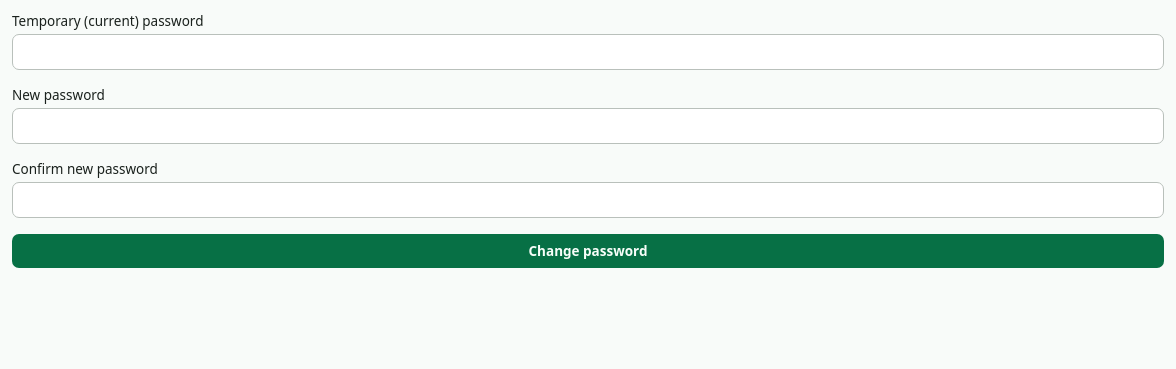
it: ChangePasswordForm › shows the resolved API error when the current password is wrong
The image size is (1176, 369).
In the password field labelled "Temporary (current) password": (588, 52) [12, 34, 1164, 70], type "wrong-pass"
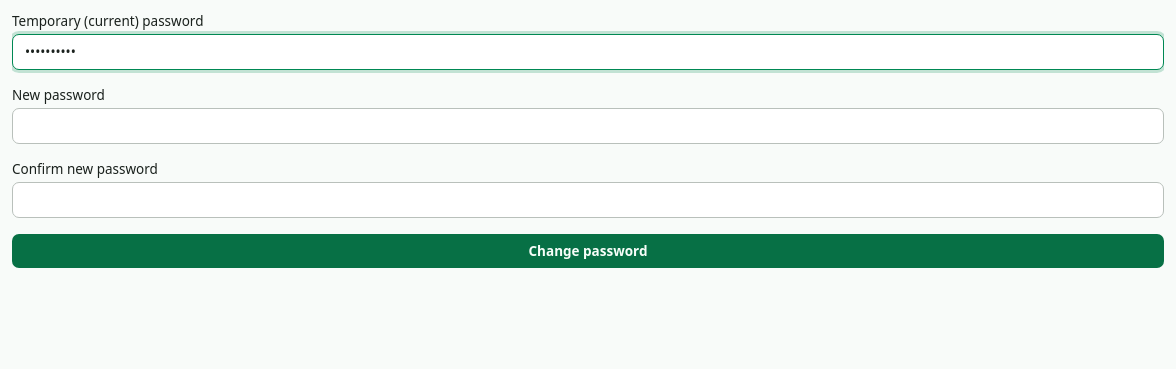
In the password field labelled "New password": (588, 126) [12, 108, 1164, 144], type "newpass123"
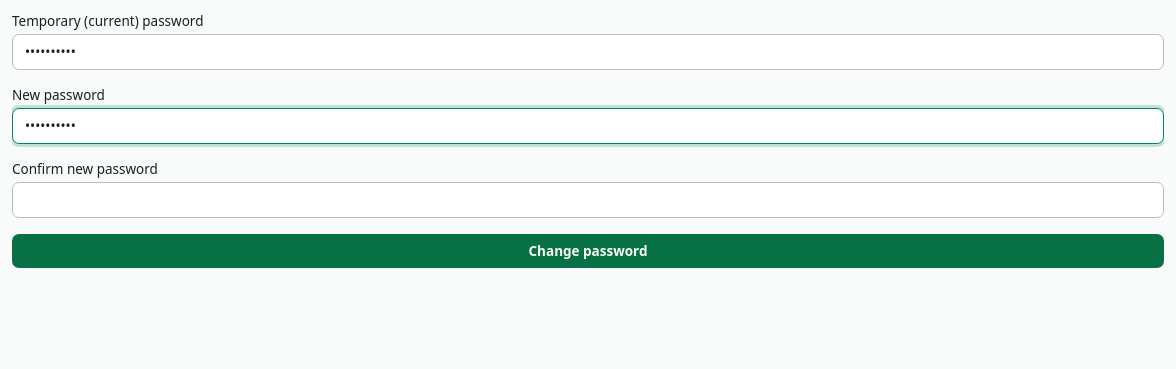
In the password field labelled "Confirm new password": (588, 200) [12, 182, 1164, 218], type "newpass123"
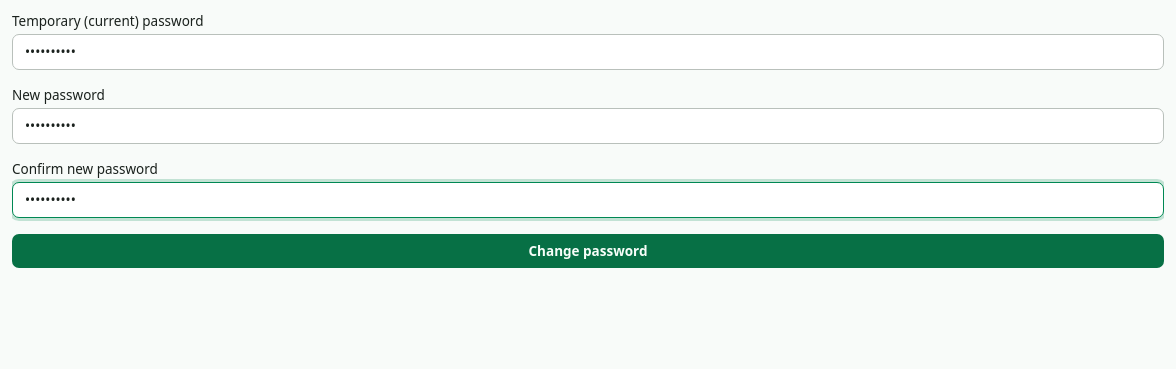
Click the button "Change password": click(588, 251) [12, 234, 1164, 268]
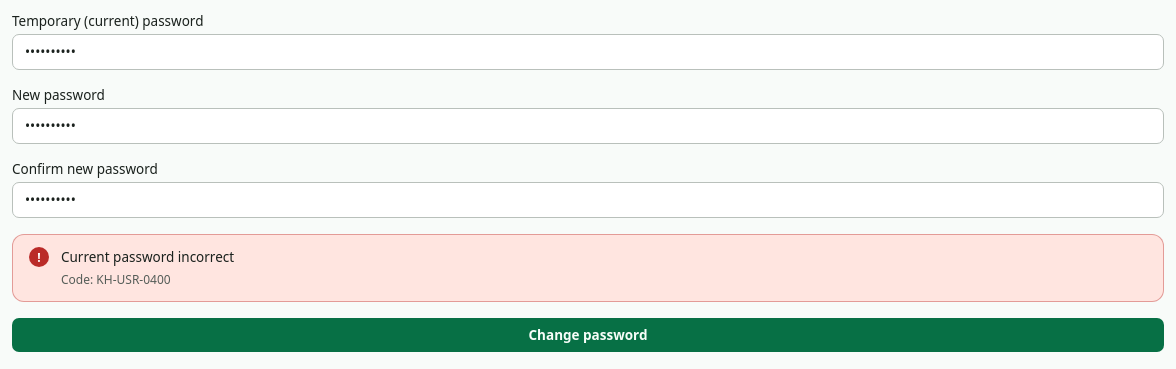
Check: the text "Current password incorrect" is shown, box [61, 248, 234, 266]
